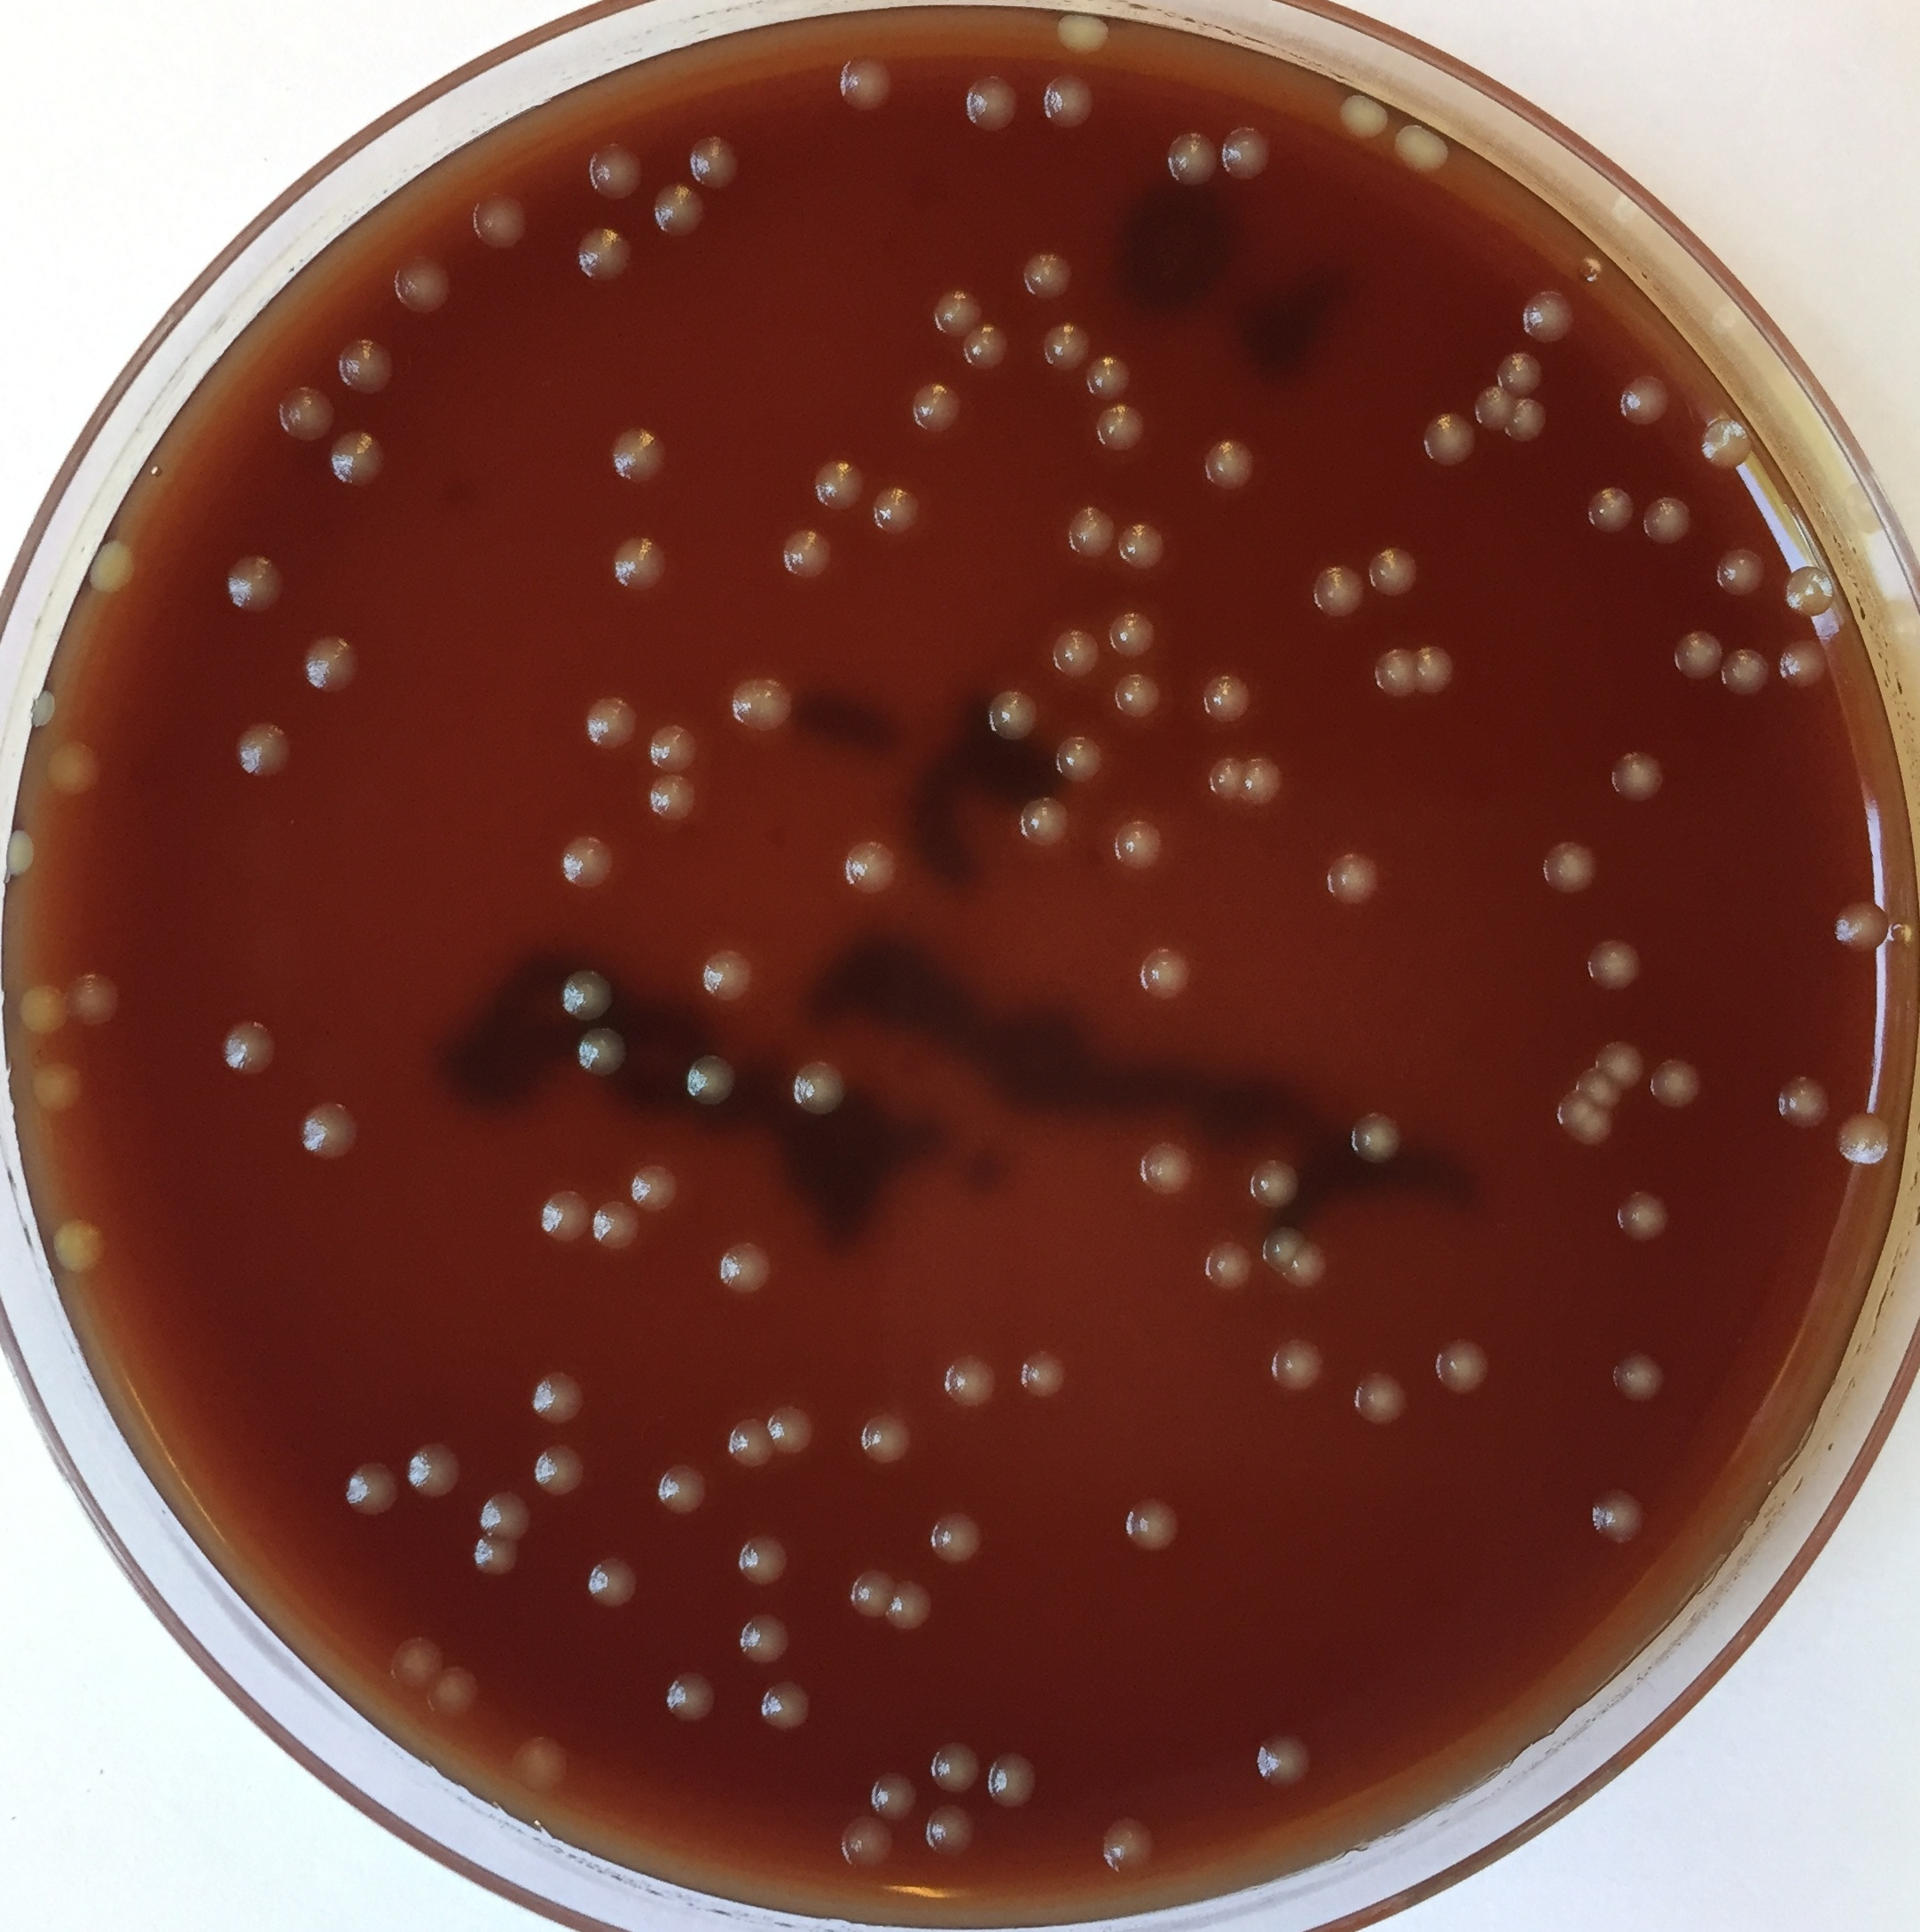sp06: (1039, 70, 1108, 142), (1257, 1726, 1326, 1797), (1159, 127, 1222, 199), (331, 425, 394, 496), (295, 1100, 366, 1164), (468, 192, 542, 251), (510, 1732, 577, 1797), (1588, 1485, 1658, 1547), (301, 631, 364, 698), (605, 427, 673, 489), (1138, 944, 1206, 1004), (964, 67, 1023, 135), (1118, 1494, 1189, 1552), (273, 378, 336, 441), (833, 49, 897, 113), (1347, 1366, 1412, 1427), (1387, 116, 1452, 178), (339, 1461, 406, 1521), (1269, 1333, 1329, 1399), (1836, 1109, 1902, 1169), (222, 550, 288, 610), (227, 721, 294, 781), (710, 1236, 777, 1296), (575, 1014, 633, 1083), (1609, 1187, 1672, 1248), (700, 946, 763, 1007), (584, 141, 649, 200), (46, 740, 111, 800), (733, 1612, 800, 1670), (726, 675, 793, 733), (334, 338, 401, 396), (83, 536, 149, 594), (1545, 1095, 1616, 1150), (531, 1442, 593, 1503), (1584, 935, 1646, 997), (1419, 410, 1480, 471), (1306, 563, 1370, 622), (839, 837, 904, 895), (927, 1508, 993, 1565), (1048, 731, 1108, 793), (1771, 1074, 1836, 1130), (554, 833, 619, 890), (390, 258, 455, 315), (573, 229, 638, 285), (784, 1062, 849, 1118), (682, 1051, 749, 1106), (1429, 1340, 1489, 1399), (656, 1459, 717, 1517), (837, 1816, 898, 1874), (1618, 371, 1676, 432), (47, 1218, 111, 1275), (981, 1749, 1041, 1807), (1649, 1051, 1707, 1111), (535, 1187, 593, 1246), (1217, 127, 1275, 186), (668, 1667, 724, 1728), (65, 970, 127, 1027), (559, 970, 621, 1027), (1324, 853, 1387, 907), (1199, 438, 1262, 492), (26, 1060, 90, 1115), (408, 1438, 466, 1496), (429, 1665, 487, 1723), (1138, 1139, 1196, 1197), (1109, 816, 1167, 874), (881, 1577, 941, 1633), (925, 1800, 981, 1860), (1247, 1153, 1306, 1209), (1607, 745, 1667, 802), (1693, 417, 1753, 473), (610, 533, 666, 592), (220, 1016, 274, 1078), (1607, 1354, 1674, 1403), (476, 1485, 535, 1542), (1521, 290, 1581, 345), (1099, 1811, 1152, 1872), (652, 183, 714, 236), (1053, 7, 1115, 60), (930, 1742, 988, 1797), (1832, 900, 1887, 958), (986, 686, 1041, 744), (1018, 795, 1076, 849), (855, 1415, 914, 1468), (1350, 1108, 1403, 1167), (1713, 547, 1772, 599), (527, 1373, 589, 1424), (389, 1631, 445, 1686), (760, 1677, 814, 1733), (1018, 1350, 1074, 1405), (811, 457, 865, 513), (777, 527, 833, 582), (738, 1531, 791, 1589), (867, 1770, 925, 1823), (1363, 543, 1421, 596), (689, 135, 747, 188), (1197, 677, 1257, 728), (1329, 93, 1389, 144), (911, 381, 965, 436), (1062, 505, 1116, 559), (584, 691, 638, 745), (1783, 563, 1836, 619), (18, 983, 70, 1039), (468, 1531, 526, 1582), (1595, 1034, 1646, 1092), (1414, 642, 1461, 703), (1201, 1241, 1255, 1294), (1665, 626, 1721, 677), (645, 721, 702, 772), (1540, 839, 1598, 888), (941, 1354, 993, 1406), (589, 1556, 644, 1607), (1095, 399, 1146, 454), (1116, 520, 1171, 571), (1779, 638, 1836, 687), (872, 483, 921, 540), (1104, 608, 1160, 657), (726, 1420, 779, 1471), (629, 1164, 682, 1215), (761, 1406, 816, 1456), (589, 1199, 638, 1253), (1489, 352, 1545, 399), (1053, 624, 1101, 680), (1588, 487, 1639, 538), (1043, 322, 1094, 373), (1247, 751, 1289, 812), (960, 323, 1013, 373), (1108, 670, 1160, 719), (1022, 251, 1076, 299), (649, 775, 700, 824), (1720, 647, 1772, 694), (0, 826, 42, 884), (1646, 494, 1693, 545), (1085, 355, 1136, 403), (847, 1566, 893, 1619), (1500, 396, 1549, 441), (1285, 1241, 1329, 1292), (23, 684, 65, 737), (1373, 647, 1415, 700), (1203, 752, 1247, 802), (930, 294, 981, 336), (1572, 1072, 1623, 1113), (1261, 1224, 1303, 1269), (1475, 385, 1514, 431)
